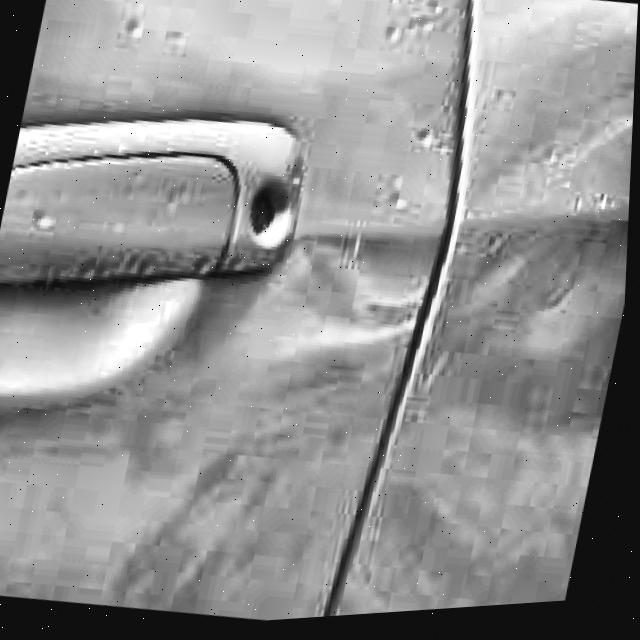door_dent: (265, 247, 434, 376)
